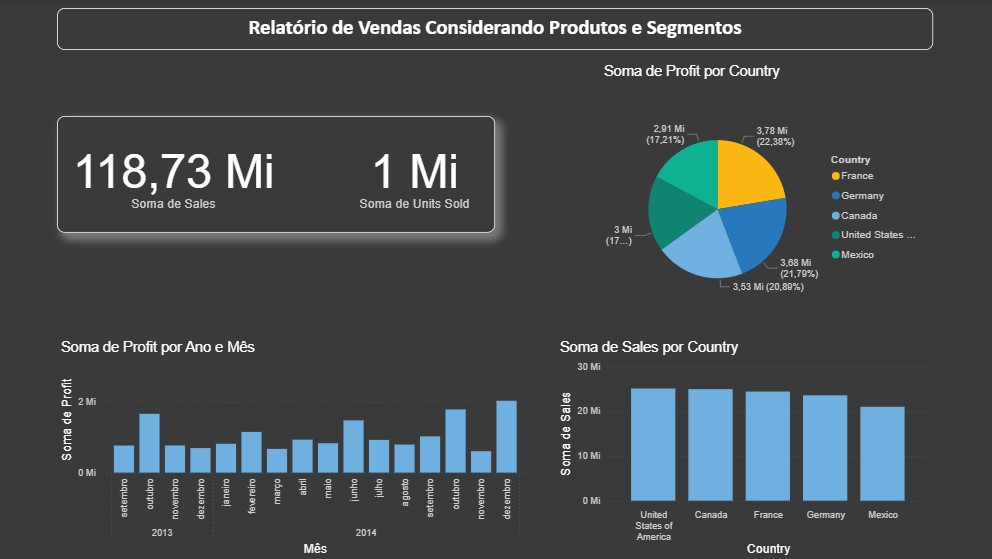

The dashboard page shown, as its layout file describes it:
{"tool":"powerbi","page":{"name":"País & Lucro","canvas":[1280,720],"ordinal":1},"visuals":[{"type":"textbox","box":[77.1,11.6,1125.8,54],"z":0},{"type":"card","fields":{"Values":["Sum(financials.Sales)"]},"box":[77.1,150.4,299.4,150.4],"z":1},{"type":"card","fields":{"Values":["Sum(financials.Units Sold)"]},"box":[386.8,150.4,299.4,150.4],"z":2},{"type":"pieChart","fields":{"Category":["financials.Country"],"Y":["Sum(financials.Profit)"]},"box":[774.9,82.2,428,354.7],"z":3},{"type":"columnChart","fields":{"Y":["Sum(financials.Profit)"],"Category":["financials.Date.Variation.Hierarquia de datas.Ano","financials.Date.Variation.Hierarquia de datas.Mês"]},"box":[77.1,436.9,609.2,282.7],"z":4},{"type":"columnChart","fields":{"Category":["financials.Country"],"Y":["Sum(financials.Sales)"]},"box":[718.4,436.9,484.5,282.7],"z":5},{"type":"textbox","box":[77.1,150.4,562.9,150.4],"z":6}]}

Visuals, with their boxes in screenshot pixels (x1, y1, x2, y2), scaled from the page's 1280x720 canvas onto the 992x559 screenshot:
textbox: [60, 9, 932, 51]
card - Sum(financials.Sales): [60, 117, 292, 234]
card - Sum(financials.Units Sold): [300, 117, 532, 234]
pieChart - financials.Country x Sum(financials.Profit): [601, 64, 932, 339]
columnChart - Sum(financials.Profit) x financials.Date.Variation.Hierarquia de datas.Ano: [60, 339, 532, 558]
columnChart - financials.Country x Sum(financials.Sales): [557, 339, 932, 558]
textbox: [60, 117, 496, 234]
